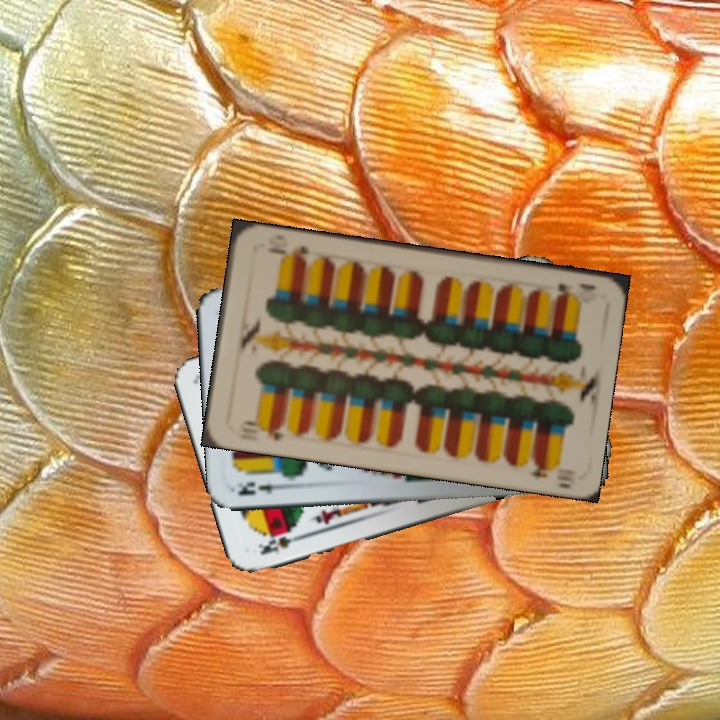E10: (239, 416, 287, 443), (552, 279, 599, 300)
EK: (233, 478, 291, 498)
SK: (254, 529, 309, 558)
